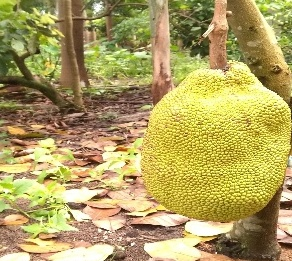Mit: (142, 51, 288, 216)
